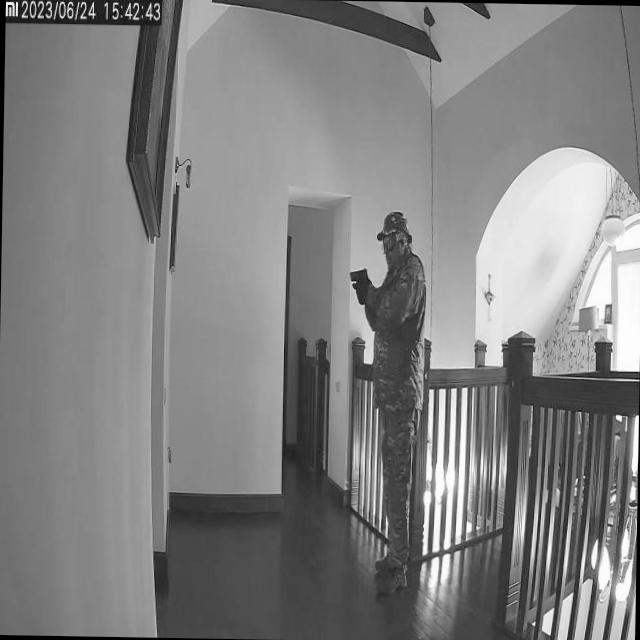gun: (348, 262, 370, 296)
person with a gun: (346, 208, 428, 598)
